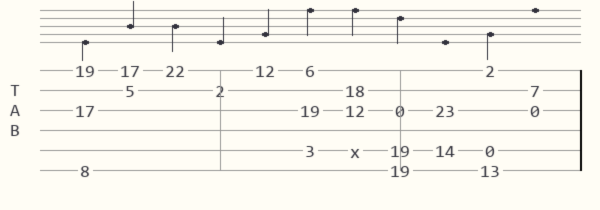0: (395, 103, 409, 118), (485, 143, 499, 158), (530, 103, 544, 118)
12: (255, 63, 279, 78), (345, 103, 369, 118)
13: (480, 163, 504, 178)
14: (435, 143, 459, 158)
17: (75, 103, 99, 118), (120, 63, 144, 78)
18: (345, 83, 369, 98)
19: (75, 63, 99, 78), (300, 103, 324, 118), (390, 163, 414, 178), (390, 143, 414, 158)
2: (215, 83, 229, 98), (485, 63, 499, 78)
22: (165, 63, 189, 78)
23: (435, 103, 459, 118)
3: (305, 143, 319, 158)
5: (125, 83, 139, 98)
6: (305, 63, 319, 78)
7: (530, 83, 544, 98)
8: (80, 163, 94, 178)
x: (350, 144, 364, 157)
